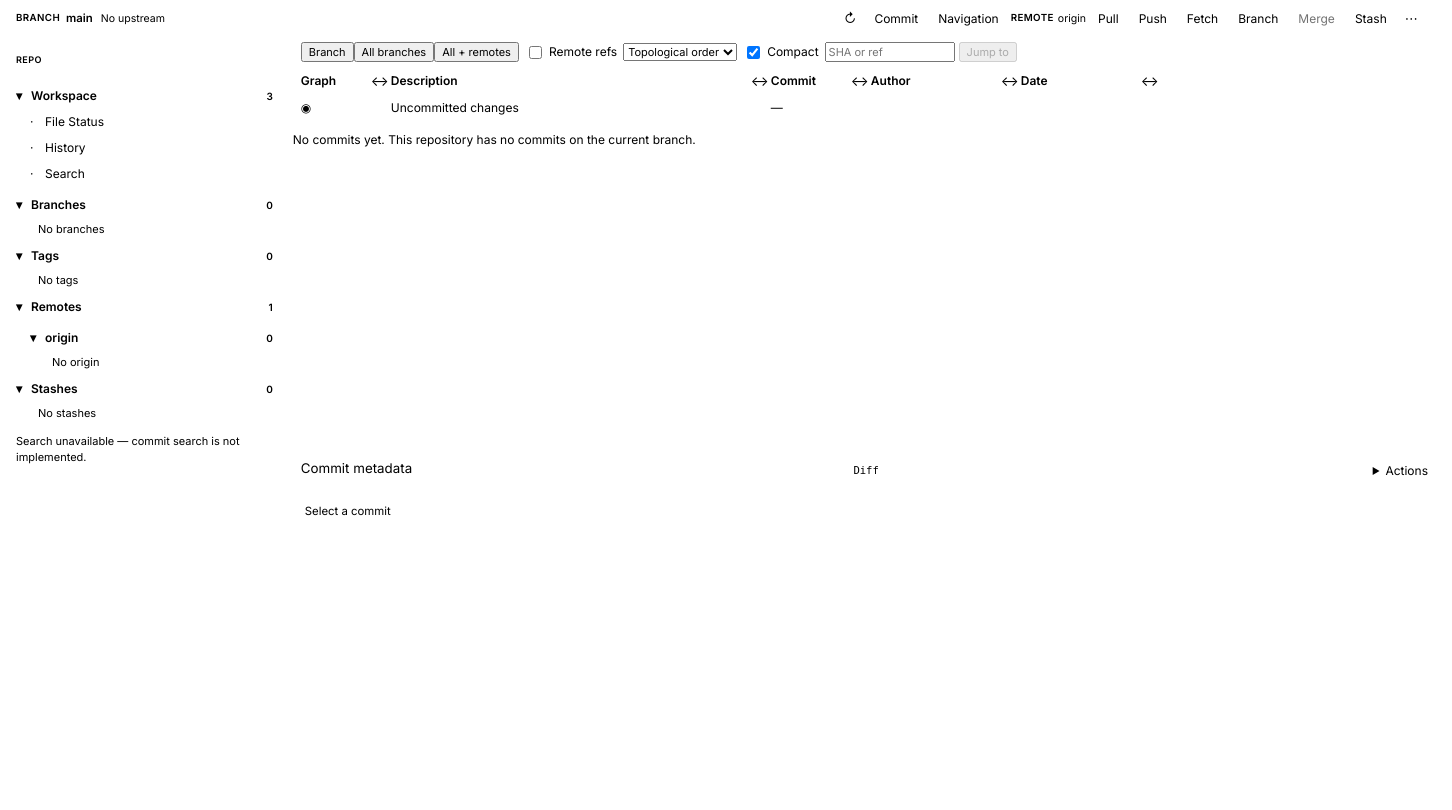
it: mounted version control toolbar › inspects uncommitted files below history and removes the row when clean
Click the button with class "git-history-uncommitted". click: (455, 107)
box: [293, 95, 1440, 119]
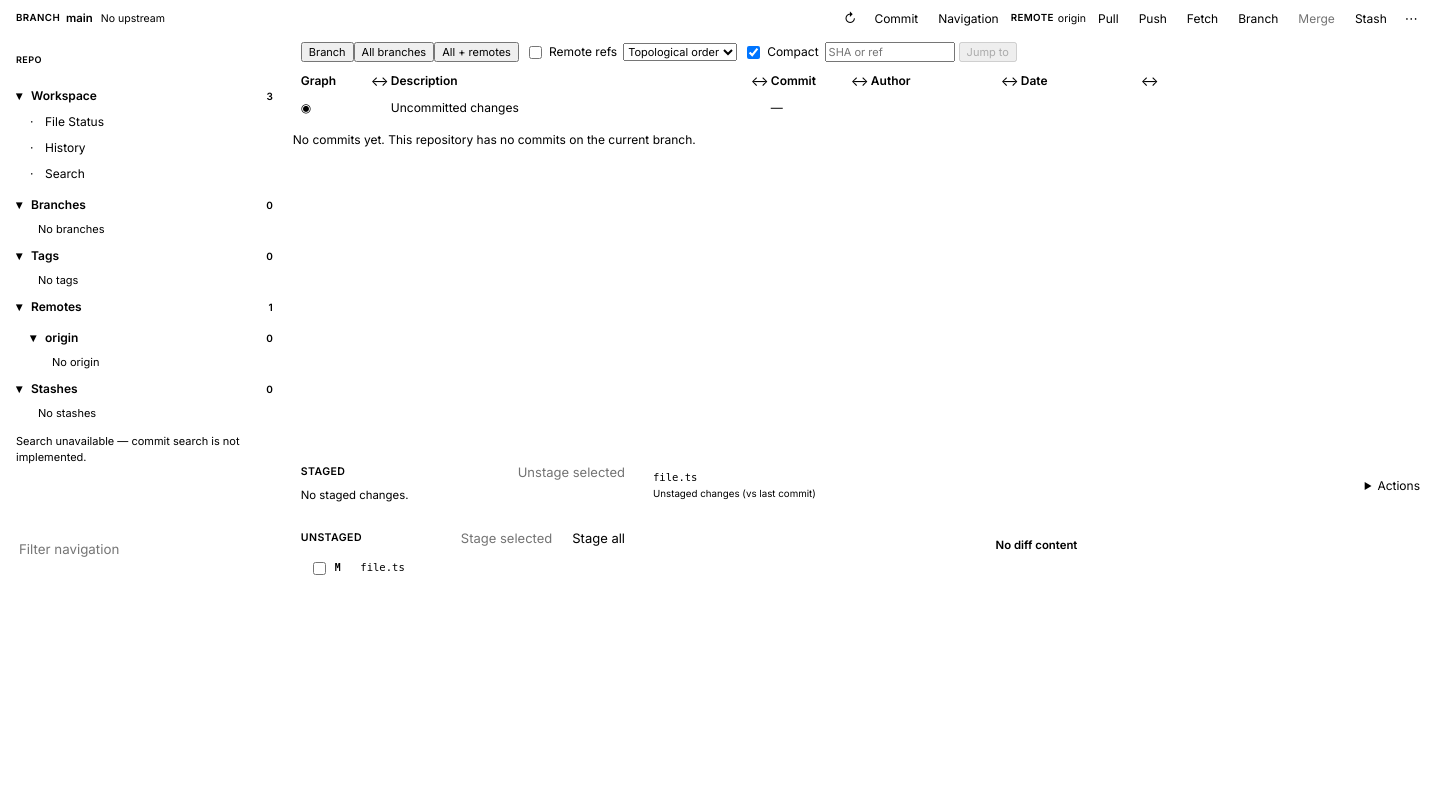
expect the element with class "git-history-panel" is shown: met, box [293, 42, 1440, 147]
Click the button named "More version control actions". click: (1411, 18)
box: [1399, 8, 1424, 29]
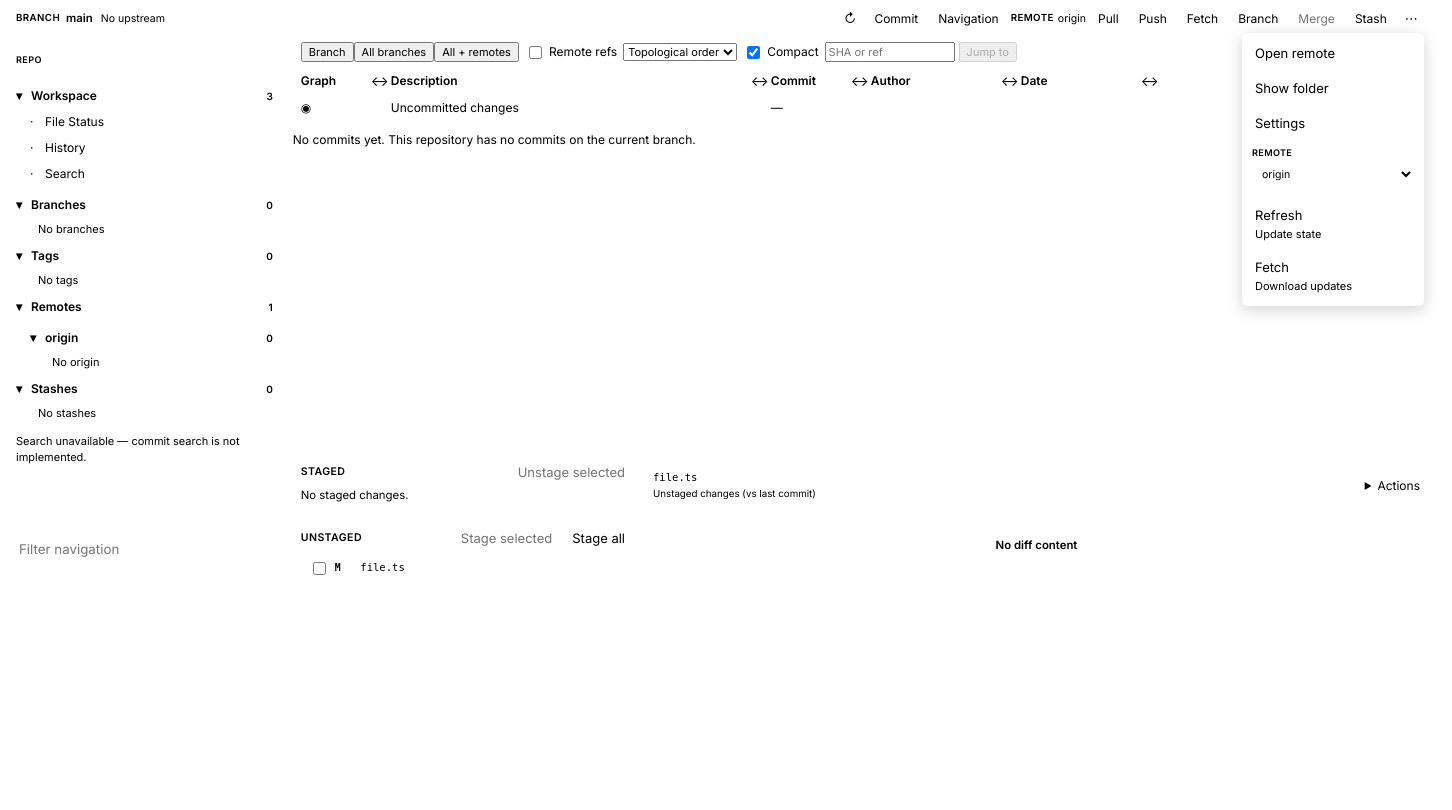
Click the menu item titled "Refresh repository state". click: (1333, 224)
box: [1246, 199, 1420, 250]
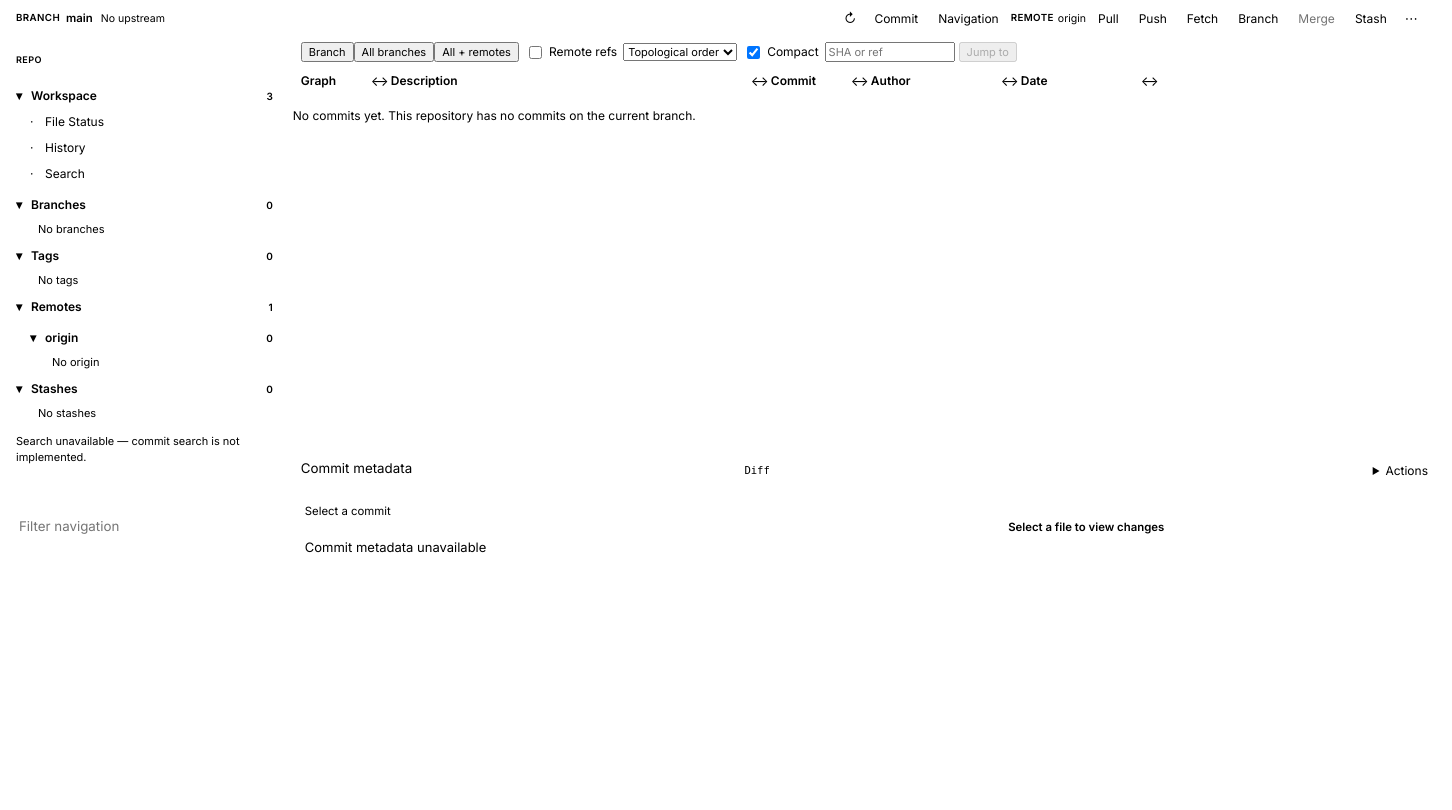
expect the button with class "git-history-uncommitted" is gone: met
